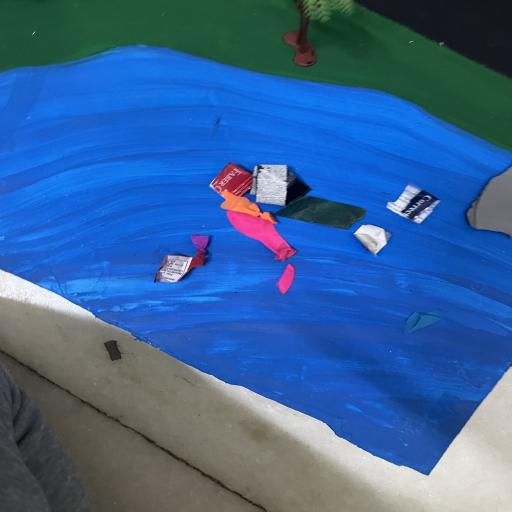encroachment: (466, 158, 512, 240)
trash: (153, 156, 443, 296)
